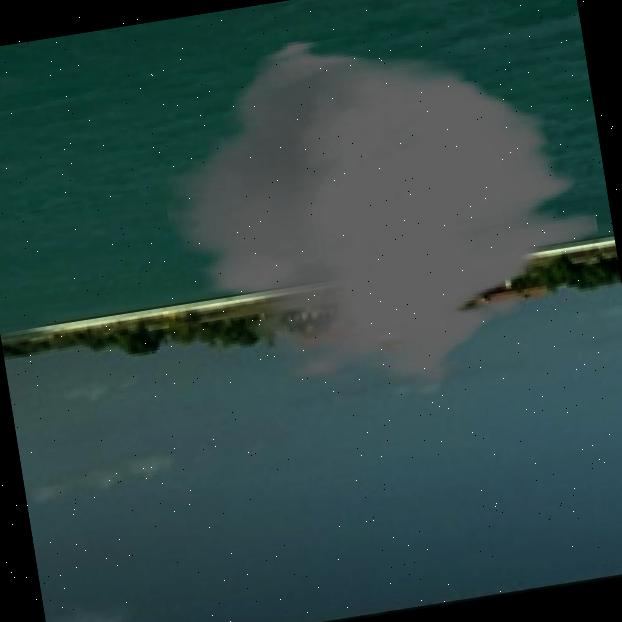smoke: (143, 0, 618, 421)
